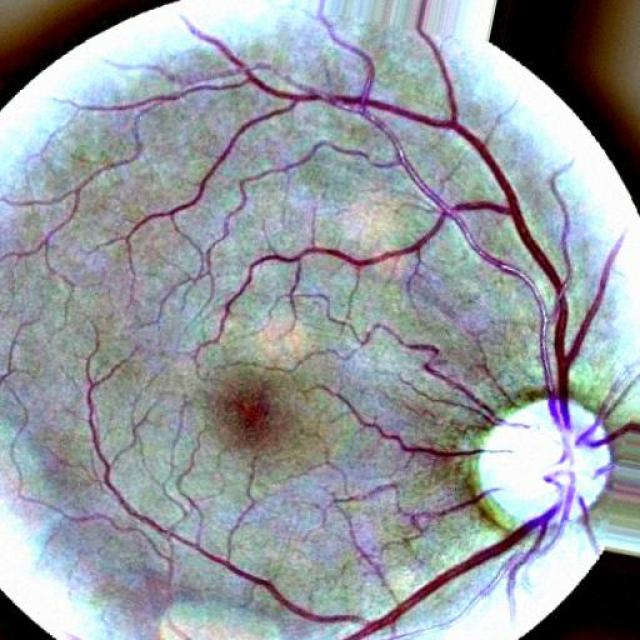Macula: (204, 366, 310, 465)
Nerves: (361, 108, 563, 425), (401, 105, 577, 426), (356, 476, 556, 634), (502, 482, 576, 600), (570, 244, 615, 362), (581, 375, 630, 442), (589, 430, 629, 449)
Optic Disk: (476, 404, 612, 524)
